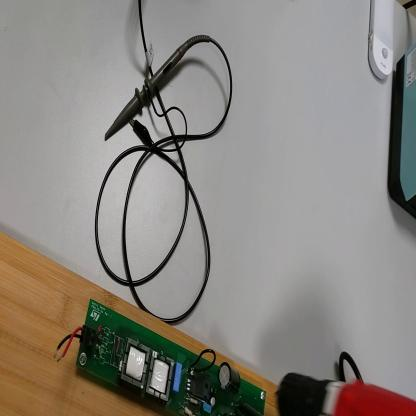electric screwdriver: (271, 372, 416, 415)
high voltage board: (55, 300, 268, 416)
oscilloscope probe tip: (106, 43, 190, 141)
welder station: (387, 44, 416, 219)
working area: (1, 234, 276, 416)
